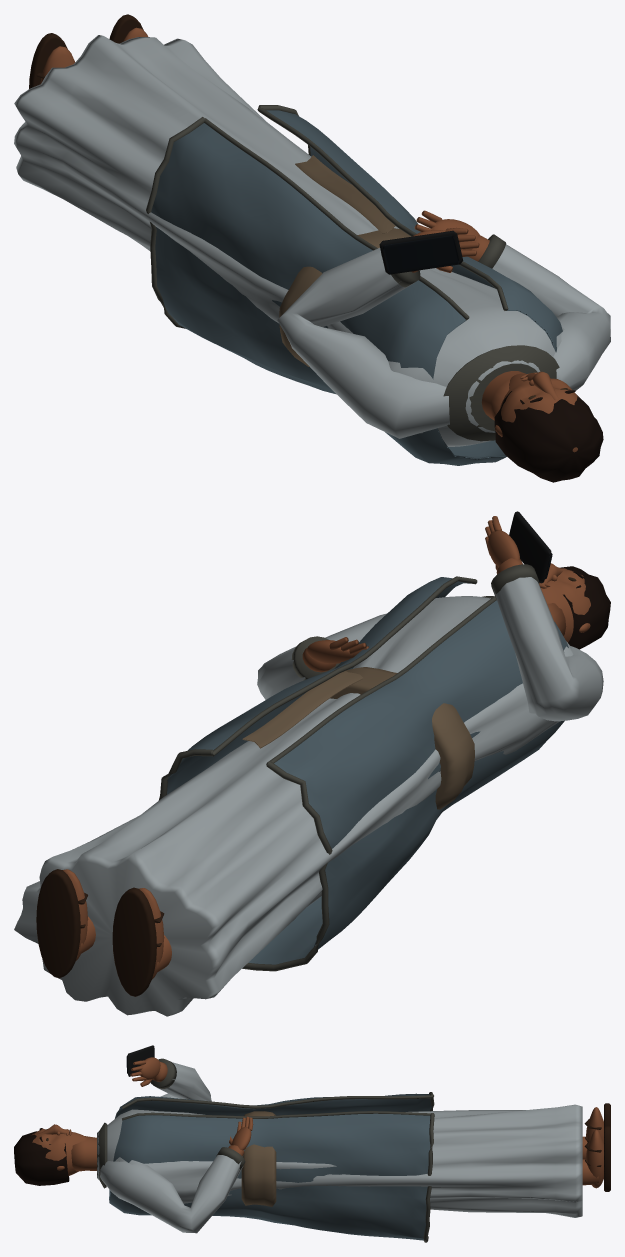
File: SM_V3_Visitor_Phone.obj
The picture shows the model from 3 angles, top to bottom: view 1: azimuth 30°, elevation 25°; view 2: azimuth 150°, elevation 25°; view 3: azimuth 270°, elevation 25°; orthographic projection. The views are drawn at different scales.
Visible parts, largest first — view 1: Tunic, Mantle, SleeveR, Hair, SleeveL, Collar, PhoneScreen, SashTail, Head, MantleHem, MantleEdge-1, Sash (+4 smaller); view 2: Tunic, Mantle, SleeveR, Sash, SandalSoleL, SandalSoleR, MantleHem, SashTail, SleeveL, Hair, MantleEdge-1, Head (+6 smaller); view 3: Mantle, Tunic, SleeveL, Sash, Hair, MantleEdge1, SleeveR, Head, MantleEdge-1, Neck, FootL, MantleHem (+7 smaller).
Boxes of the visible parts, left/top/right/bottom form: Tunic: left=14, top=35, right=564, bottom=446; Mantle: left=151, top=110, right=562, bottom=465; SleeveR: left=277, top=248, right=449, bottom=438; Hair: left=494, top=389, right=603, bottom=482; SleeveL: left=492, top=244, right=610, bottom=390; Collar: left=443, top=345, right=559, bottom=441; PhoneScreen: left=383, top=235, right=459, bottom=273; SashTail: left=295, top=155, right=395, bottom=233; Head: left=499, top=373, right=578, bottom=452; MantleHem: left=146, top=105, right=310, bottom=328; MantleEdge-1: left=257, top=107, right=508, bottom=310; Sash: left=279, top=228, right=410, bottom=366; Tunic: left=14, top=596, right=573, bottom=1016; Mantle: left=167, top=577, right=568, bottom=964; SleeveR: left=493, top=577, right=603, bottom=721; Sash: left=330, top=667, right=474, bottom=809; SandalSoleL: left=36, top=869, right=80, bottom=978; SandalSoleR: left=112, top=887, right=156, bottom=996; MantleHem: left=158, top=749, right=332, bottom=971; SashTail: left=242, top=670, right=362, bottom=748; SleeveL: left=257, top=613, right=386, bottom=699; Hair: left=560, top=566, right=610, bottom=649; MantleEdge-1: left=212, top=576, right=477, bottom=756; Head: left=540, top=569, right=590, bottom=642; Mantle: left=109, top=1093, right=432, bottom=1240; Tunic: left=97, top=1104, right=582, bottom=1217; SleeveL: left=100, top=1155, right=243, bottom=1233; Sash: left=241, top=1111, right=276, bottom=1206; Hair: left=14, top=1131, right=69, bottom=1185; MantleEdge1: left=122, top=1095, right=432, bottom=1109; SleeveR: left=155, top=1062, right=211, bottom=1101; Head: left=31, top=1128, right=86, bottom=1175; MantleEdge-1: left=122, top=1111, right=430, bottom=1120; Neck: left=71, top=1136, right=96, bottom=1171; FootL: left=586, top=1129, right=603, bottom=1188; MantleHem: left=423, top=1092, right=434, bottom=1242.
Bounding box in the file's own units: 67.97 × 57.8 × 178.
